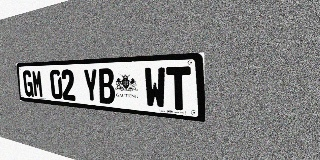0: (49, 69, 63, 100)
2: (61, 69, 75, 101)
B: (98, 68, 116, 104)
G: (22, 70, 34, 97)
M: (32, 70, 44, 98)
T: (166, 66, 191, 111)
W: (144, 67, 167, 109)
Y: (83, 69, 99, 103)
